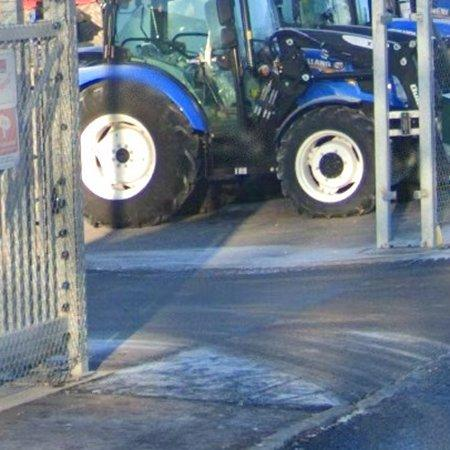tractors: (79, 0, 375, 226), (390, 29, 419, 181)
